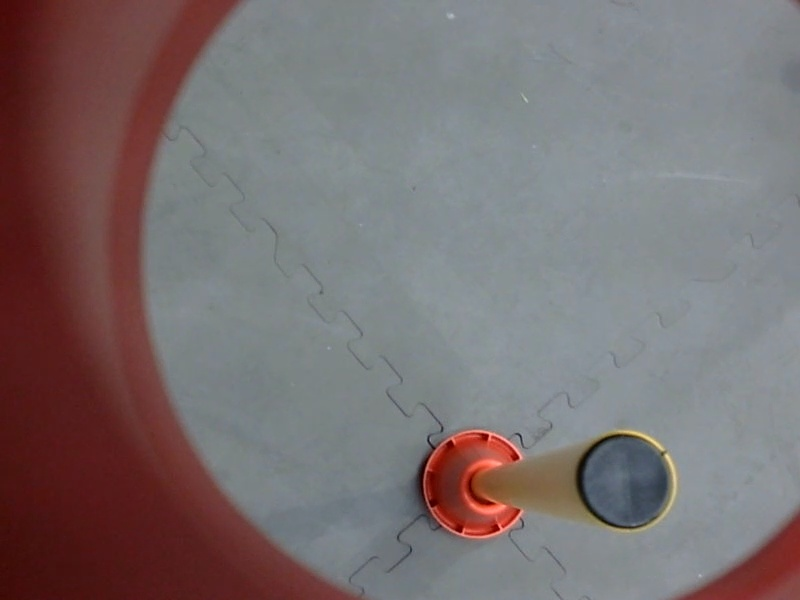tip: (569, 422, 685, 541)
